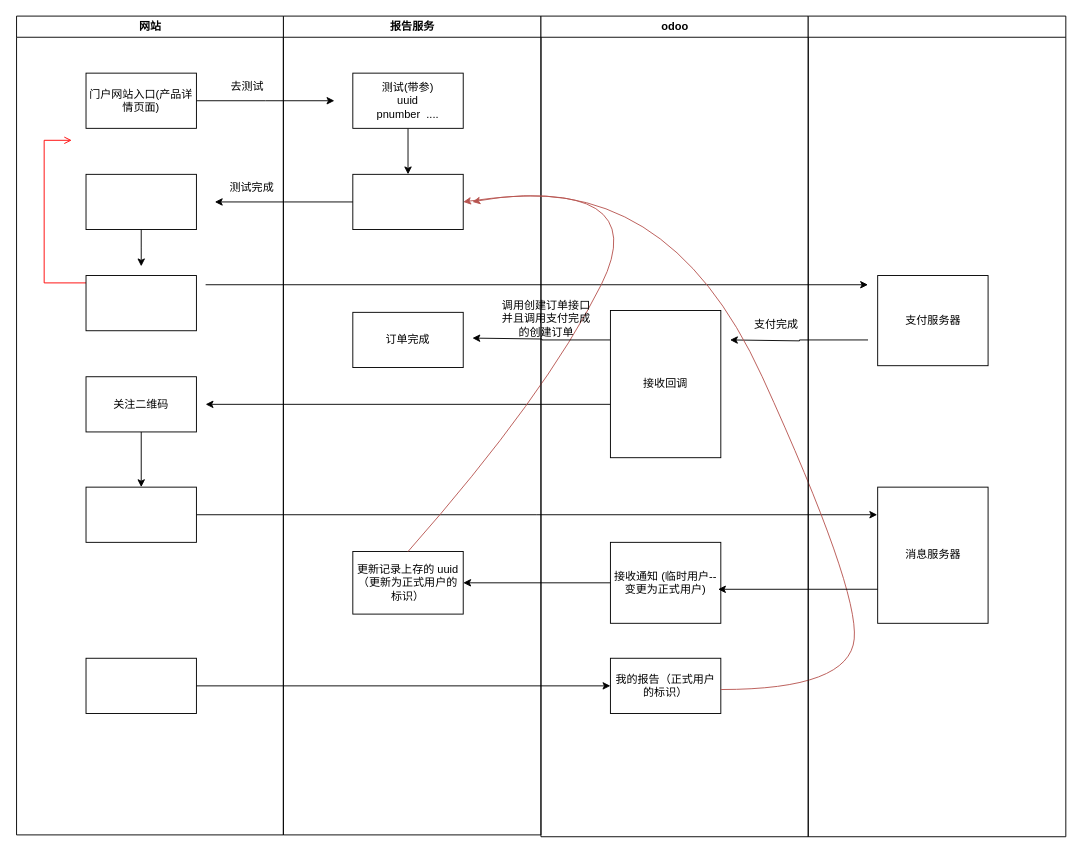
Image size: 1082x853. Some labels were removed from this diagram. Each missing label, with the box of its shape:
产品详情页: (85, 173, 196, 230)
公众号入口: (85, 657, 196, 713)
去支付: (85, 275, 196, 331)
微信服务: (807, 15, 1066, 837)
扫码关注: (85, 486, 196, 542)
提交测试(后台会用 uuid 存一条记录): (352, 173, 463, 230)
